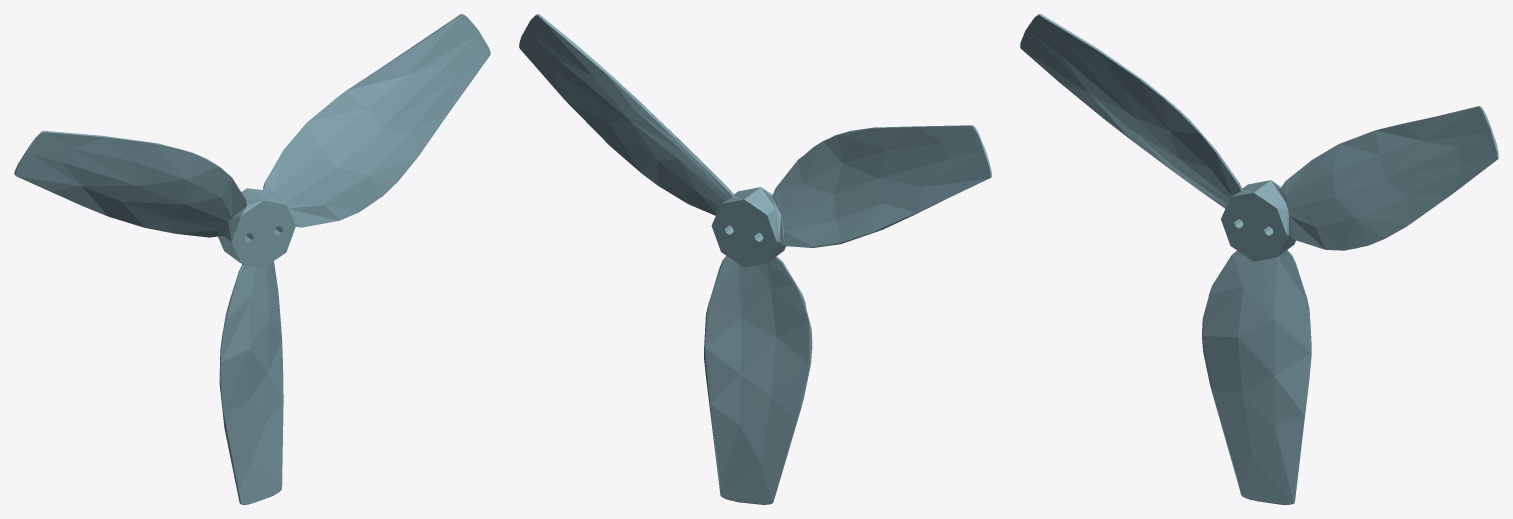
The model's file is sunray150_propeller_rotor_2_link_local.obj.
3 renders of one model, left to right at view 1: azimuth 30°, elevation 25°; view 2: azimuth 150°, elevation 25°; view 3: azimuth 330°, elevation 25°, orthographic. The views are drawn at different scales.
Parts seen in each view (by area): view 1: TriBlade_flipped_around_screw_axis_rotor_2_front_left_sunray_cw_; view 2: TriBlade_flipped_around_screw_axis_rotor_2_front_left_sunray_cw_; view 3: TriBlade_flipped_around_screw_axis_rotor_2_front_left_sunray_cw_.
Part boxes in pixels (<box>): TriBlade_flipped_around_screw_axis_rotor_2_front_left_sunray_cw_: <box>14,14,490,504</box>; TriBlade_flipped_around_screw_axis_rotor_2_front_left_sunray_cw_: <box>519,14,991,504</box>; TriBlade_flipped_around_screw_axis_rotor_2_front_left_sunray_cw_: <box>1020,14,1498,504</box>.
Bounding box in the file's own units: 0.0805 × 0.0711 × 0.00732.
